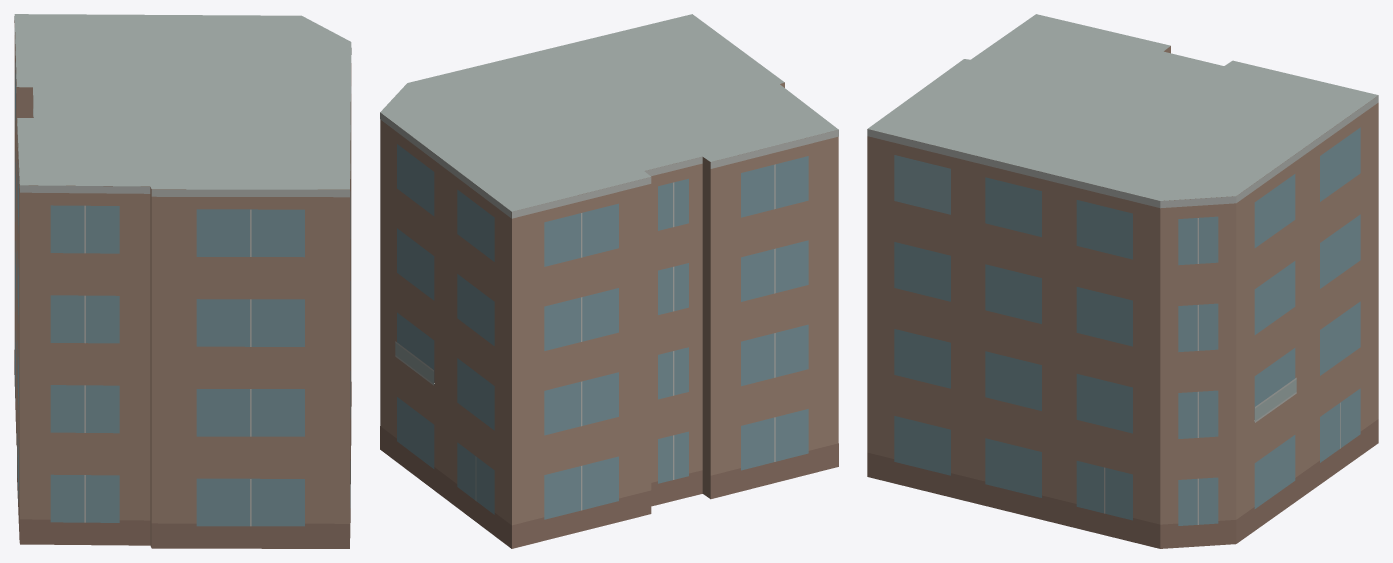
The model's file is survey-upis-32636485.glb.
3 renders of one model, left to right at view 1: azimuth 30°, elevation 25°; view 2: azimuth 150°, elevation 25°; view 3: azimuth 270°, elevation 25°, orthographic. The views are drawn at different scales.
Visible parts, largest first — view 1: survey-upis-32636485.tmp; view 2: survey-upis-32636485.tmp; view 3: survey-upis-32636485.tmp.
Part boxes in pixels (<box>): survey-upis-32636485.tmp: <box>14,14,351,548</box>; survey-upis-32636485.tmp: <box>380,14,838,548</box>; survey-upis-32636485.tmp: <box>867,14,1378,548</box>.
Size of the model in its own units: 13.61 by 11.8 by 15.73.
